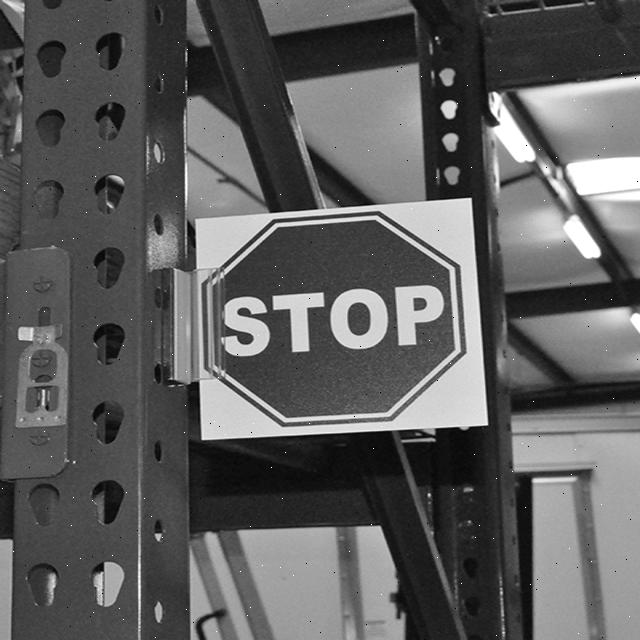Stop-sign: (189, 198, 468, 431)
